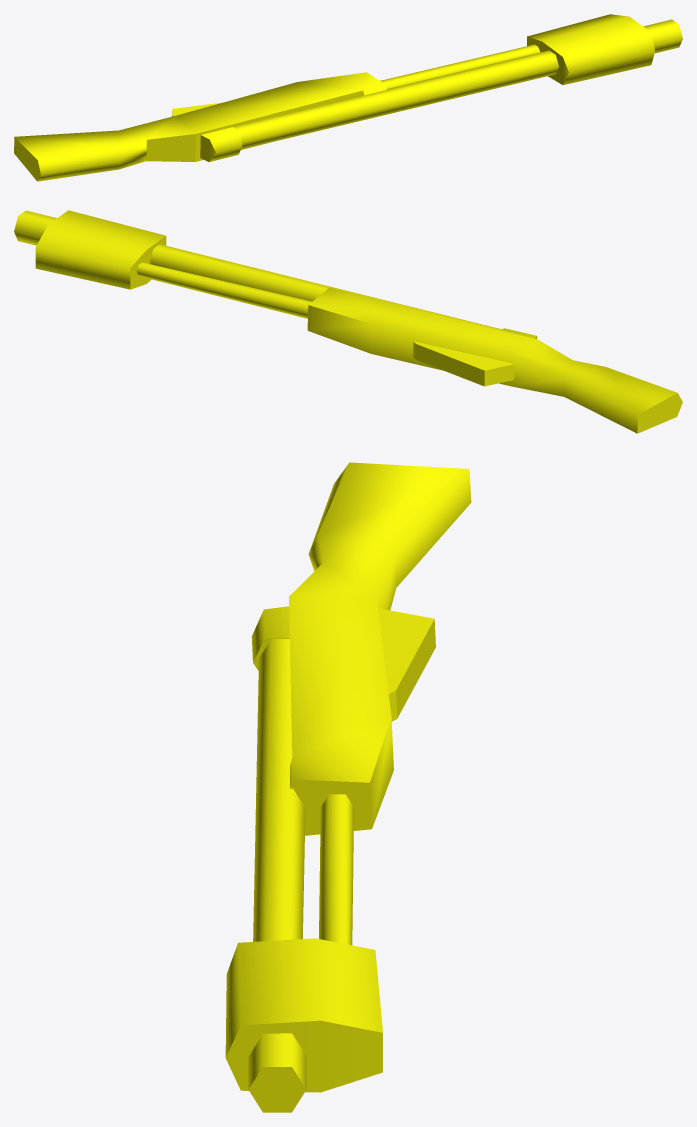
Rendered from weapon_flamethrower_B.glb.
3 views of the same model, one above another, from view 1: azimuth 30°, elevation 25°; view 2: azimuth 150°, elevation 25°; view 3: azimuth 270°, elevation 25° (orthographic). The views are drawn at different scales.
Parts seen in each view (by area): view 1: weapon_flamethrower_B; view 2: weapon_flamethrower_B; view 3: weapon_flamethrower_B.
Boxes of the visible parts, box(x1,y1,x2,y2) form: weapon_flamethrower_B: box(14, 14, 682, 181); weapon_flamethrower_B: box(14, 210, 682, 433); weapon_flamethrower_B: box(225, 462, 471, 1112).
Size of the model in its own units: 2.25 by 0.1245 by 0.3858.
Materials: 1 (1 with a texture image).
